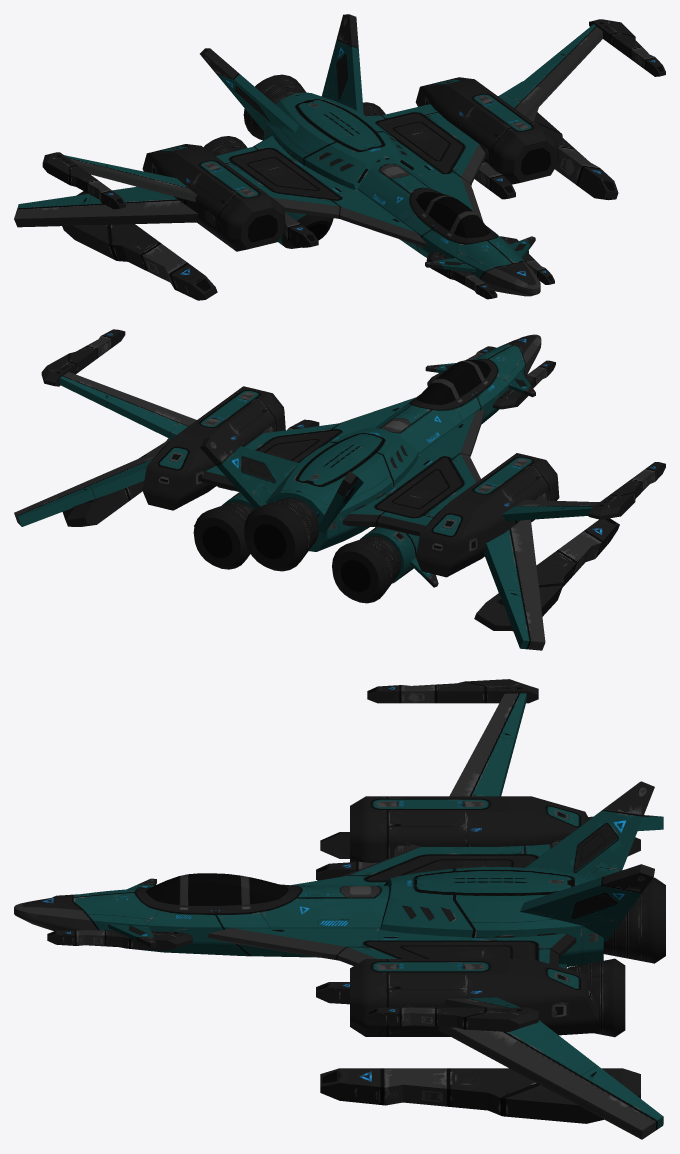
The model's file is StarSparrow_Arrow.fbx.
3 views of the same model, one above another, from view 1: azimuth 30°, elevation 25°; view 2: azimuth 150°, elevation 25°; view 3: azimuth 270°, elevation 25° (orthographic). The views are drawn at different scales.
Visible parts, largest first — view 1: StarSparrow_Arrow; view 2: StarSparrow_Arrow; view 3: StarSparrow_Arrow.
Part boxes in pixels (x1,y1,x2,y2): StarSparrow_Arrow: (14,14,665,300); StarSparrow_Arrow: (14,329,665,650); StarSparrow_Arrow: (14,679,665,1139).
Size of the model in its own units: 1340 by 310 by 1078.
